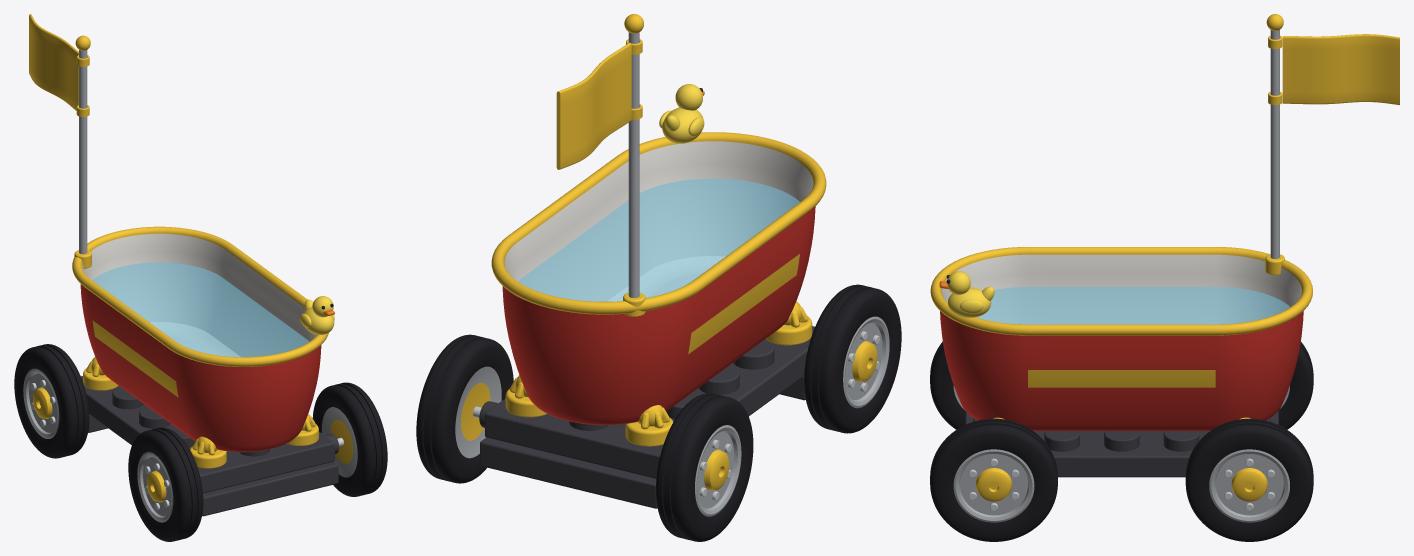
Rendered from goldmaster-tub.glb.
The picture shows the model from 3 angles, left to right: view 1: azimuth 30°, elevation 25°; view 2: azimuth 150°, elevation 25°; view 3: azimuth 270°, elevation 25°; orthographic projection. The views are drawn at different scales.
Visible parts, largest first — view 1: body, water, wheel_rr, wheel_fr, wheel_fl, flag, duck; view 2: body, water, wheel_fr, wheel_rr, wheel_rl, flag, duck; view 3: body, wheel_rl, wheel_fl, flag, water, wheel_rr, wheel_fr, duck.
Boxes of the visible parts, x1=… form: body: x1=72, y1=226, x2=343, y2=516; water: x1=92, y1=262, x2=309, y2=357; wheel_rr: x1=14, y1=344, x2=89, y2=458; wheel_fr: x1=128, y1=427, x2=203, y2=541; wheel_fl: x1=312, y1=382, x2=387, y2=496; flag: x1=29, y1=14, x2=91, y2=268; duck: x1=300, y1=296, x2=334, y2=334; body: x1=473, y1=132, x2=826, y2=508; water: x1=518, y1=178, x2=799, y2=301; wheel_fr: x1=804, y1=284, x2=901, y2=433; wheel_rr: x1=656, y1=393, x2=753, y2=541; wheel_rl: x1=416, y1=334, x2=513, y2=483; flag: x1=556, y1=14, x2=645, y2=316; duck: x1=659, y1=84, x2=704, y2=143; body: x1=930, y1=247, x2=1312, y2=477; wheel_rl: x1=1185, y1=418, x2=1313, y2=541; wheel_fl: x1=930, y1=418, x2=1057, y2=541; flag: x1=1265, y1=14, x2=1399, y2=275; water: x1=976, y1=287, x2=1289, y2=324; wheel_rr: x1=1278, y1=342, x2=1313, y2=429; wheel_fr: x1=930, y1=341, x2=964, y2=429; duck: x1=939, y1=271, x2=994, y2=317.
Bounding box in the file's own units: 1.28 × 2.31 × 2.21.
